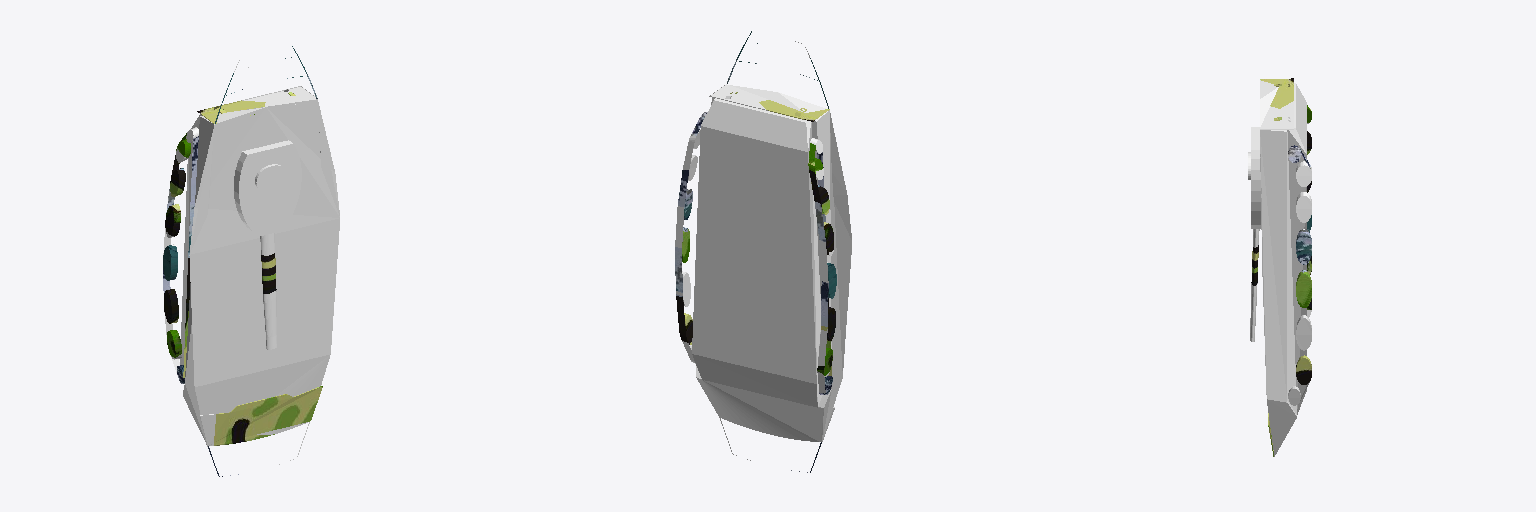
The picture shows the model from 3 angles: view 1: azimuth 30°, elevation 25°; view 2: azimuth 150°, elevation 25°; view 3: azimuth 270°, elevation 25°; orthographic projection.
Visible parts, largest first — view 1: tank_FisheyeCenter; view 2: tank_FisheyeCenter; view 3: tank_FisheyeCenter.
Part boxes in pixels (left/top/right/bottom): tank_FisheyeCenter: left=163, top=46, right=339, bottom=476; tank_FisheyeCenter: left=675, top=31, right=851, bottom=472; tank_FisheyeCenter: left=1248, top=78, right=1311, bottom=456.
Size of the model in its own units: 7.51 by 19.76 by 2.73.
1 materials, 1 textured.